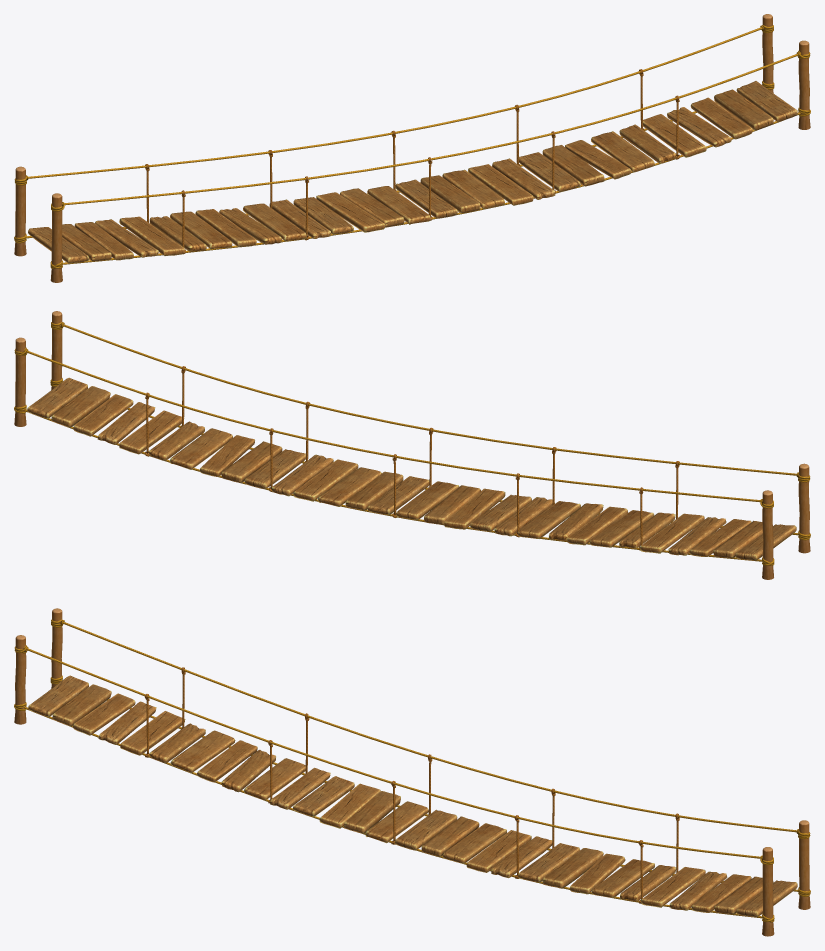
File: bridge.fbx
3 views of the same model, one above another, from view 1: azimuth 30°, elevation 25°; view 2: azimuth 150°, elevation 25°; view 3: azimuth 330°, elevation 25° (orthographic).
Visible parts, largest first — view 1: Circle.302; view 2: Circle.302; view 3: Circle.302.
Part boxes in pixels (<box>): Circle.302: <box>14,14,810,282</box>; Circle.302: <box>14,311,810,579</box>; Circle.302: <box>14,608,810,936</box>.
Size of the model in its own units: 2681 by 409 by 283.
